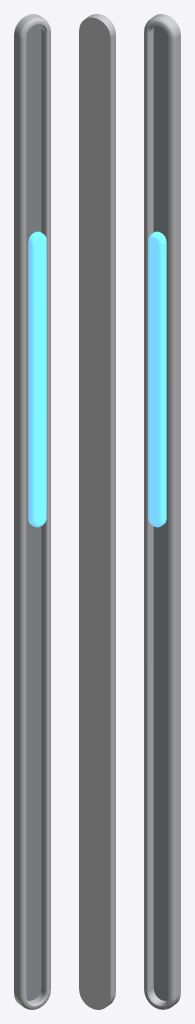
Rendered from scroll-bar-fc8256.glb.
3 renders of one model, left to right at view 1: azimuth 30°, elevation 25°; view 2: azimuth 150°, elevation 25°; view 3: azimuth 330°, elevation 25°, orthographic.
Parts seen in each view (by area): view 1: track, thumb, thumb-end; view 2: track; view 3: track, thumb, thumb-end.
Boxes of the visible parts, x1=… form: track: x1=14, y1=14, x2=50, y2=1009; thumb: x1=28, y1=274, x2=46, y2=527; thumb-end: x1=28, y1=231, x2=46, y2=277; track: x1=79, y1=14, x2=115, y2=1009; track: x1=144, y1=14, x2=180, y2=1009; thumb: x1=148, y1=274, x2=166, y2=527; thumb-end: x1=148, y1=231, x2=166, y2=277.
Size of the model in its own units: 0.008 by 0.24 by 0.0046.
